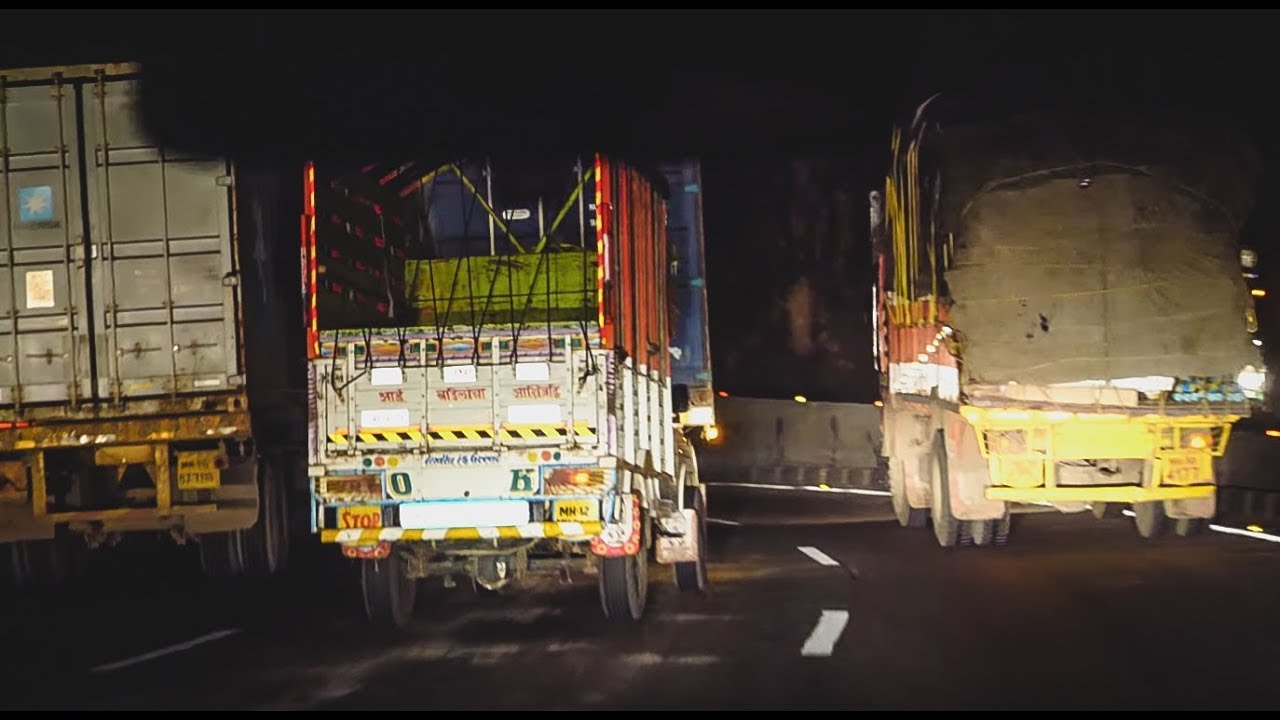truck: (299, 153, 703, 624), (874, 110, 1254, 550), (4, 67, 293, 582)
